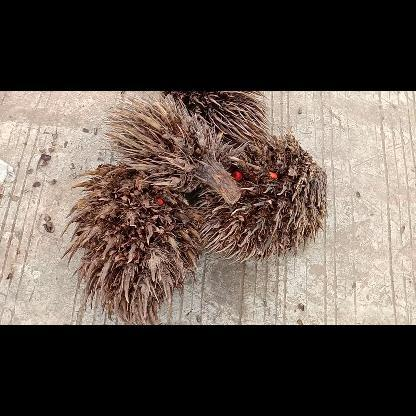Janjang kosong: (60, 162, 204, 324), (207, 132, 329, 264), (107, 94, 236, 204), (160, 90, 272, 152)
